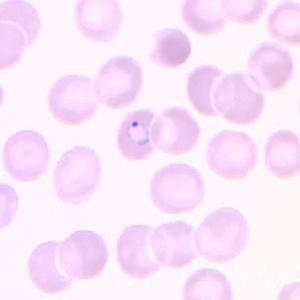Infected: (115, 108, 164, 159)
Uninfected: (115, 223, 177, 280), (45, 73, 103, 127), (148, 162, 206, 215), (205, 129, 261, 183), (57, 224, 112, 278), (191, 206, 248, 258), (52, 143, 104, 198), (215, 69, 264, 126), (148, 106, 200, 159), (146, 220, 202, 269), (93, 58, 145, 108), (0, 128, 48, 181), (248, 39, 295, 90), (186, 66, 231, 119), (28, 242, 75, 291), (75, 0, 124, 44), (148, 27, 198, 68), (265, 129, 293, 179)
